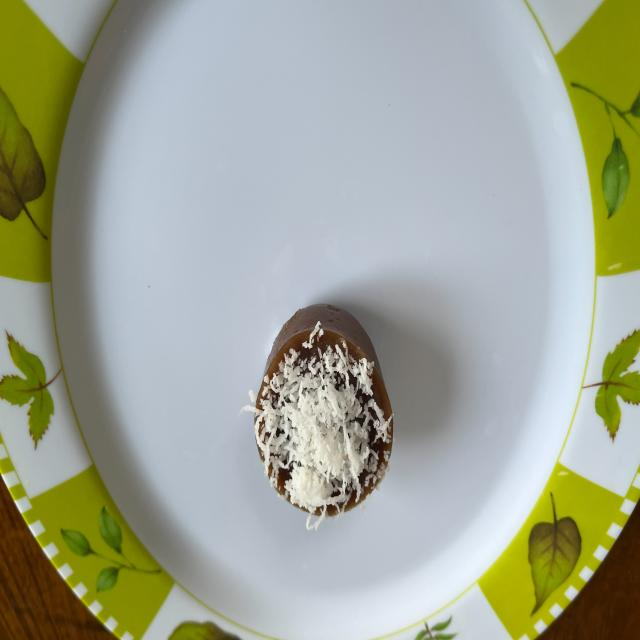Kuih lompang: (244, 304, 392, 529)
